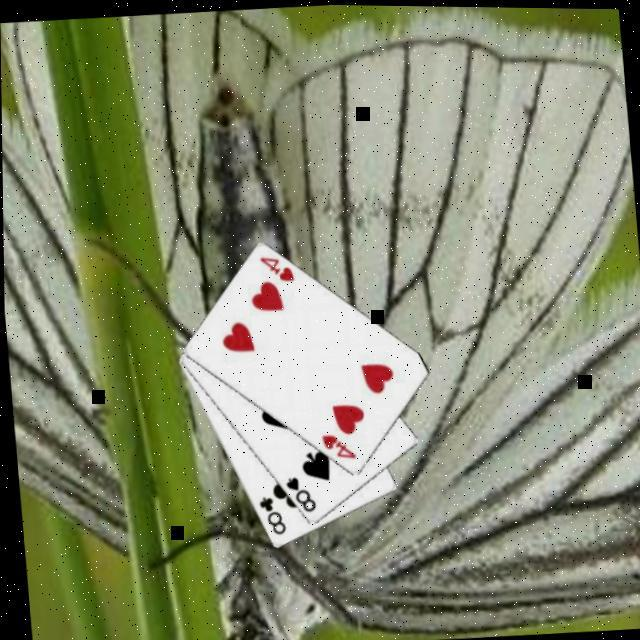4H: (315, 429, 355, 464), (254, 252, 294, 287)
8C: (251, 492, 286, 538)
8S: (278, 472, 316, 516)
